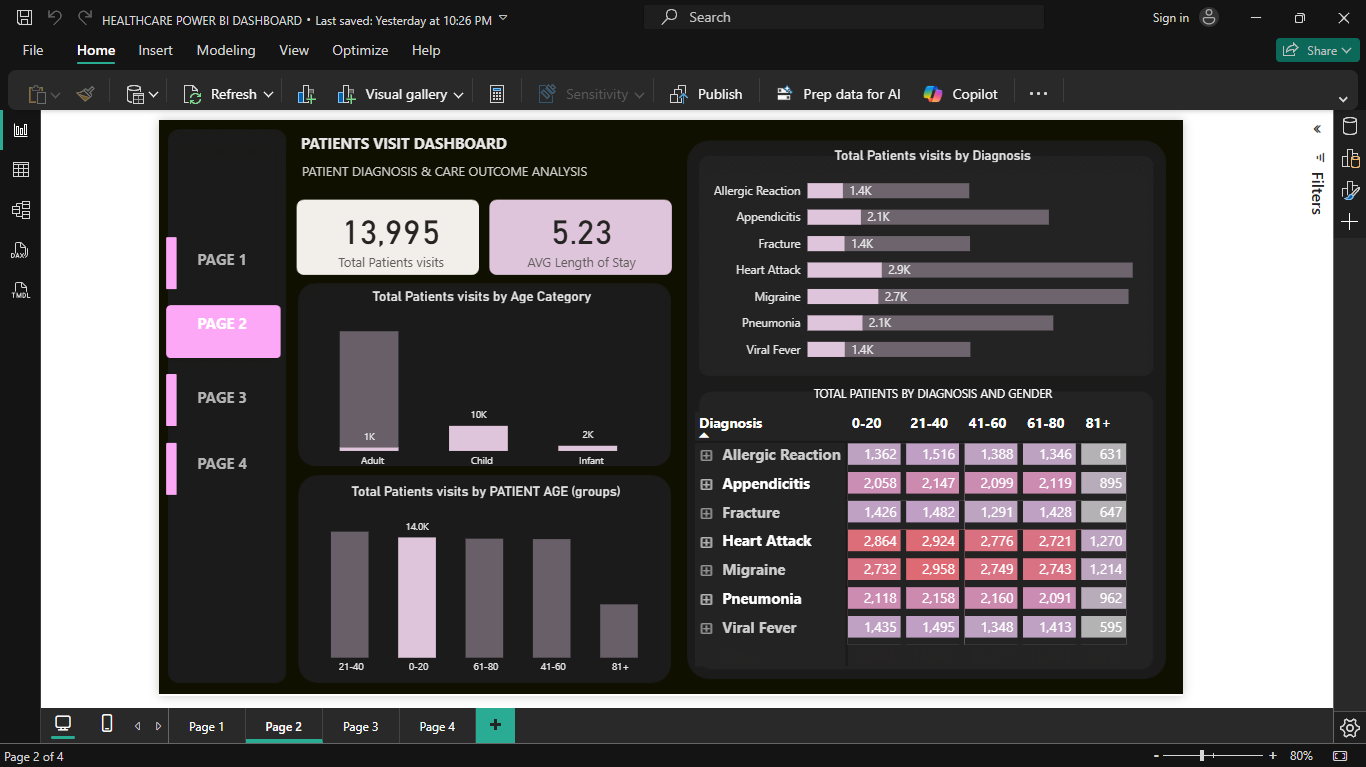

What the dashboard file says about the page in this screenshot:
{"tool":"powerbi","page":{"name":"Page 2","canvas":[1280,720],"ordinal":1},"visuals":[{"type":"card","fields":{"Values":["DAX House.Total Patients visits"]},"box":[176.3,95.5,227.8,102.9],"z":0},{"type":"card","fields":{"Values":["DAX House.AVG Length of Stay"]},"box":[414.4,95.5,226.3,101.4],"z":1000},{"type":"clusteredColumnChart","fields":{"Category":["Patient Data.Age Category"],"Y":["DAX House.Total Patients visits"]},"box":[166.1,210.1,474.7,233.7],"z":2000},{"type":"clusteredColumnChart","fields":{"Y":["DAX House.Total Patients visits"],"Category":["Patient Data.PATIENT AGE (groups)","Patient Data.PATIENT AGE"]},"box":[176.3,454.1,464.4,248.4],"z":3000},{"type":"clusteredBarChart","fields":{"Category":["Patient Data.Diagnosis"],"Y":["DAX House.Total Patients visits"]},"box":[678.3,33.3,576.7,281.7],"z":4000},{"type":"pivotTable","fields":{"Values":["DAX House.Total Patients visits"],"Columns":["Patient Data.PATIENT AGE (groups)"],"Rows":["Patient Data.Diagnosis","Patient Data.Patient Gender"]},"box":[665,360,605,331.7],"z":5000},{"type":"textbox","box":[665,326.7,605,33.3],"z":6000},{"type":"actionButton","box":[19.1,148.4,120.5,50],"z":7000},{"type":"actionButton","box":[19.1,229.2,120.5,50],"z":8000},{"type":"actionButton","box":[19.1,404.1,120.5,50],"z":9000},{"type":"actionButton","box":[19.1,321.8,120.5,50],"z":10000},{"type":"textbox","box":[171.9,11.8,470.2,39.7],"z":11000},{"type":"textbox","box":[173.4,47,470.2,39.7],"z":12000}]}

Visuals, with their boxes on the page's 1280x720 design canvas (x1, y1, x2, y2). These are canvas units, not pixel positions in the 1366x767 screenshot, which may show the page scaled, cropped or inside an application window:
card - DAX House.Total Patients visits: box=[176, 96, 404, 198]
card - DAX House.AVG Length of Stay: box=[414, 96, 641, 197]
clusteredColumnChart - Patient Data.Age Category x DAX House.Total Patients visits: box=[166, 210, 641, 444]
clusteredColumnChart - DAX House.Total Patients visits x Patient Data.PATIENT AGE (groups): box=[176, 454, 641, 702]
clusteredBarChart - Patient Data.Diagnosis x DAX House.Total Patients visits: box=[678, 33, 1255, 315]
pivotTable - DAX House.Total Patients visits x Patient Data.PATIENT AGE (groups): box=[665, 360, 1270, 692]
textbox: box=[665, 327, 1270, 360]
actionButton: box=[19, 148, 140, 198]
actionButton: box=[19, 229, 140, 279]
actionButton: box=[19, 404, 140, 454]
actionButton: box=[19, 322, 140, 372]
textbox: box=[172, 12, 642, 52]
textbox: box=[173, 47, 644, 87]
